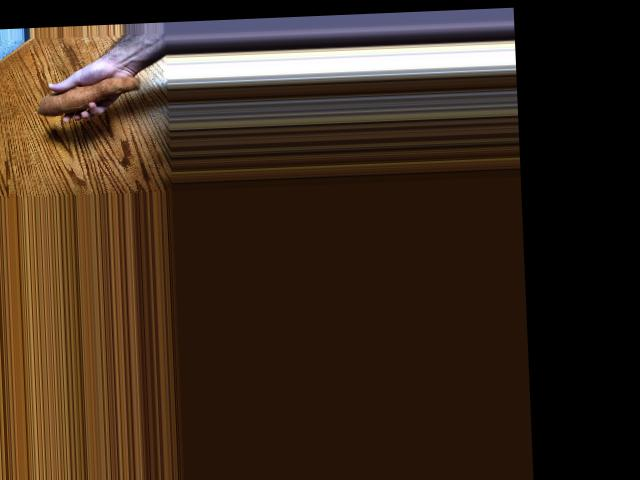sweet_potato: (34, 74, 139, 117)
